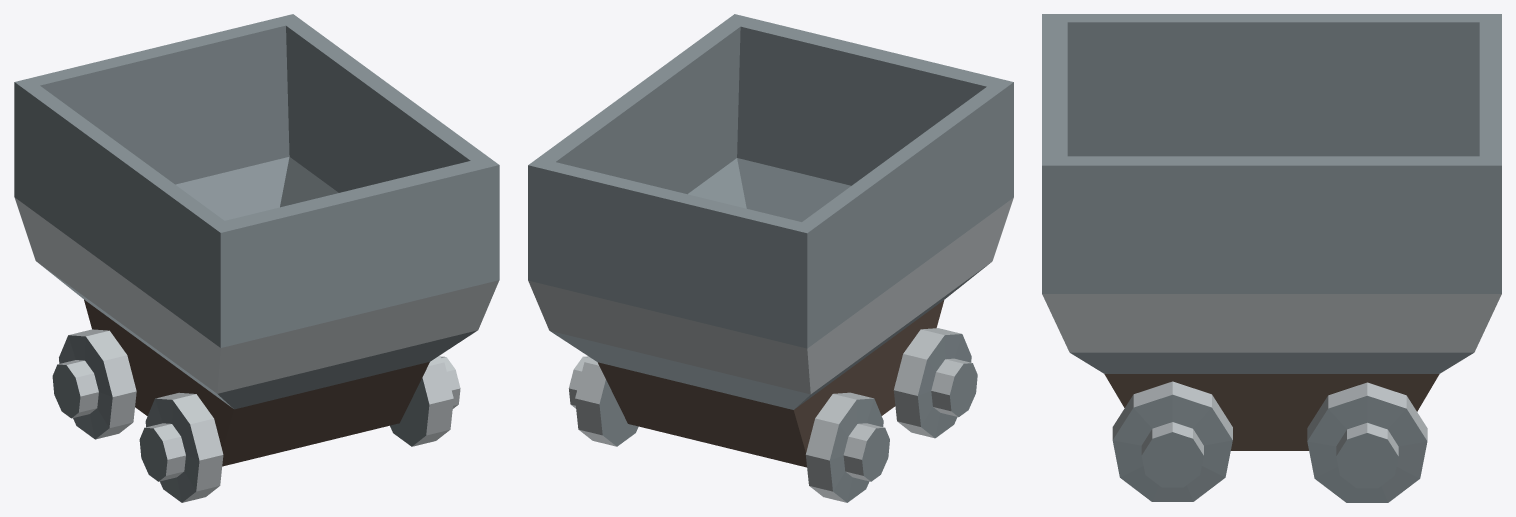
File: Minecart02.fbx
The picture shows the model from 3 angles, left to right: view 1: azimuth 30°, elevation 25°; view 2: azimuth 150°, elevation 25°; view 3: azimuth 270°, elevation 25°; orthographic projection. The views are drawn at different scales.
Visible parts, largest first — view 1: Minecart02, Minecart-rearWheels, Minecart-frontWheels; view 2: Minecart02, Minecart-frontWheels, Minecart-rearWheels; view 3: Minecart02, Minecart-frontWheels, Minecart-rearWheels.
Boxes of the visible parts, x1,y1,x2,y2 form: Minecart02: [14, 14, 499, 466]; Minecart-rearWheels: [139, 355, 460, 502]; Minecart-frontWheels: [52, 329, 136, 439]; Minecart02: [528, 14, 1013, 467]; Minecart-frontWheels: [568, 356, 889, 502]; Minecart-rearWheels: [893, 328, 977, 438]; Minecart02: [1042, 14, 1501, 450]; Minecart-frontWheels: [1307, 382, 1427, 502]; Minecart-rearWheels: [1112, 381, 1232, 501].
Size of the model in its own units: 131 by 132 by 160.
